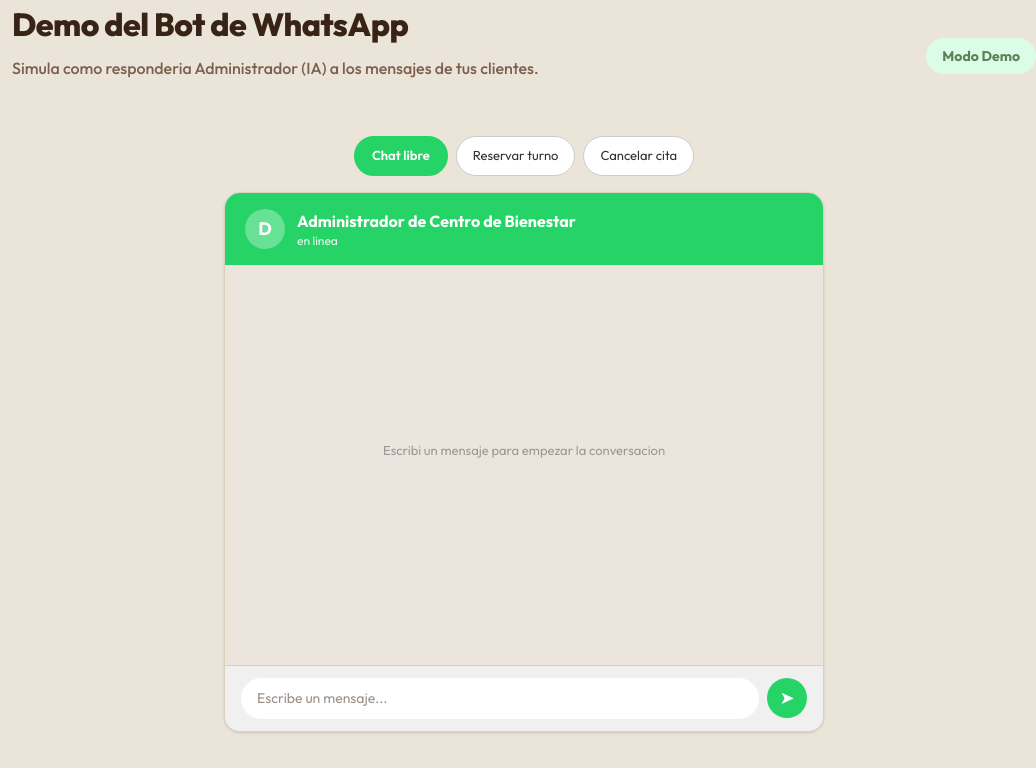
Test case: ChatDemo — escenarios de conversación › muestra mensaje de IA no disponible cuando la API falla
This screenshot has width=1036, height=768.
In the field with placeholder "Escribe un mensaje...": (500, 698) [241,678,759,718], type "test"
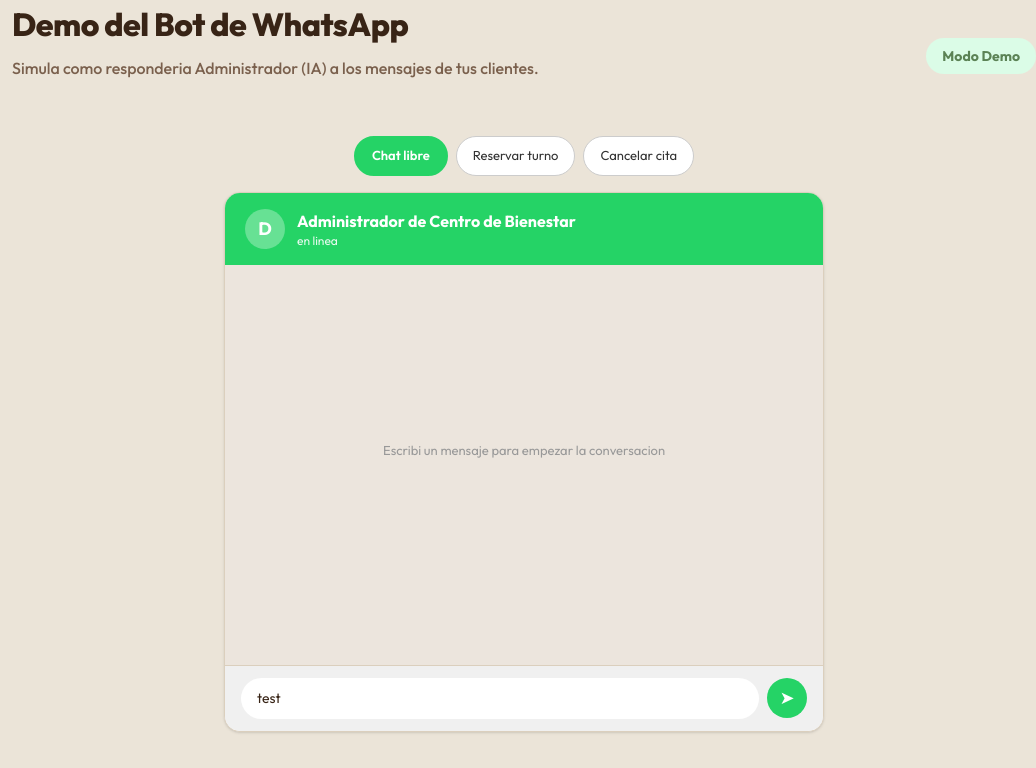
Click the button "➤": (787, 698) [767,678,807,718]
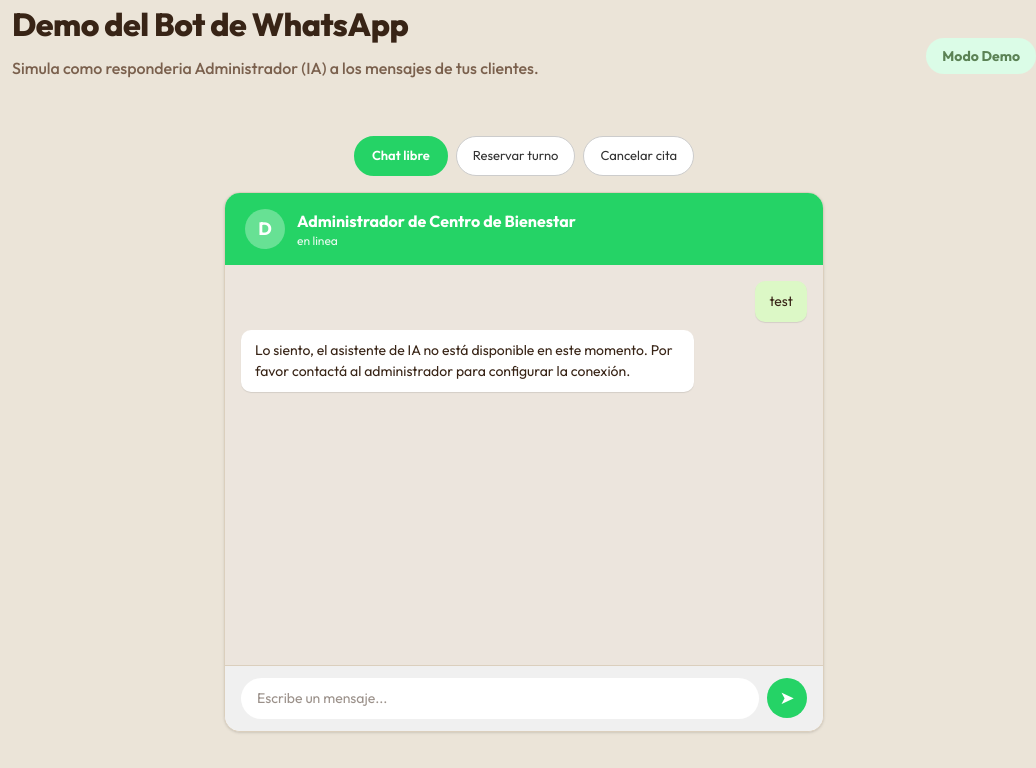
Result: the text "asistente de IA no está disponible" is shown at [255,340,676,380]
